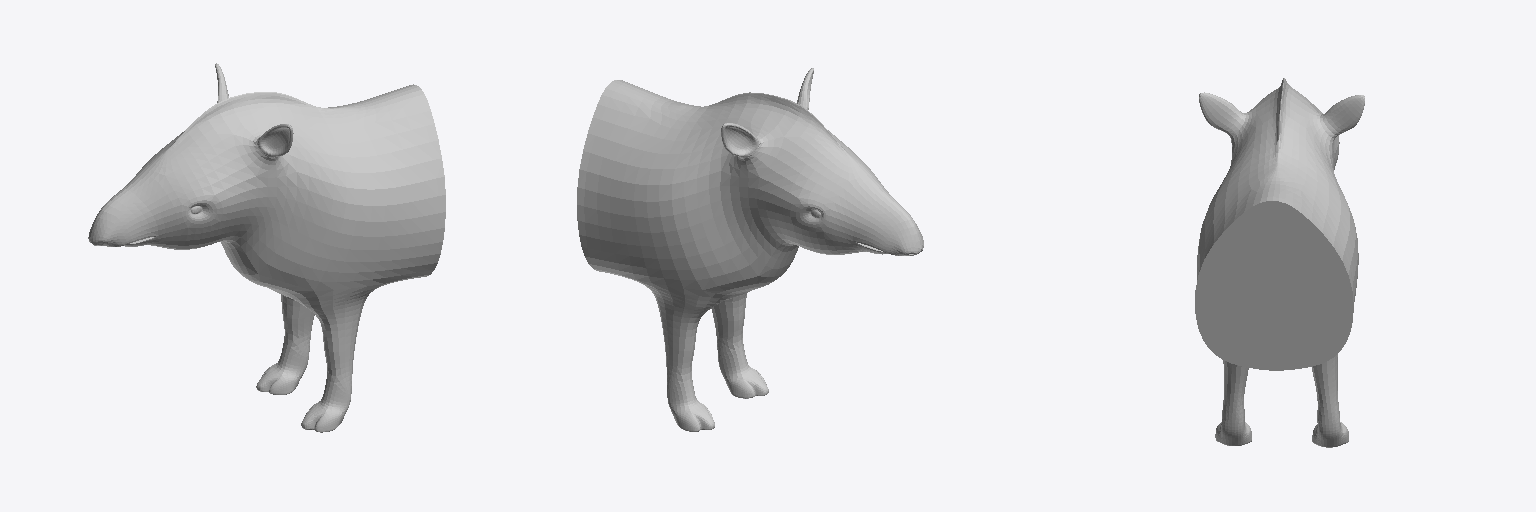
Rendered from tapir_vorne.obj.
3 renders of one model, left to right at view 1: azimuth 30°, elevation 25°; view 2: azimuth 150°, elevation 25°; view 3: azimuth 270°, elevation 25°, orthographic.
Visible parts, largest first — view 1: tapir; view 2: tapir; view 3: tapir.
Part boxes in pixels (x1,y1,x2,y2): tapir: (88,63,445,432); tapir: (577,68,923,431); tapir: (1195,78,1364,447).
Size of the model in its own units: 4.95 by 4.83 by 2.29.